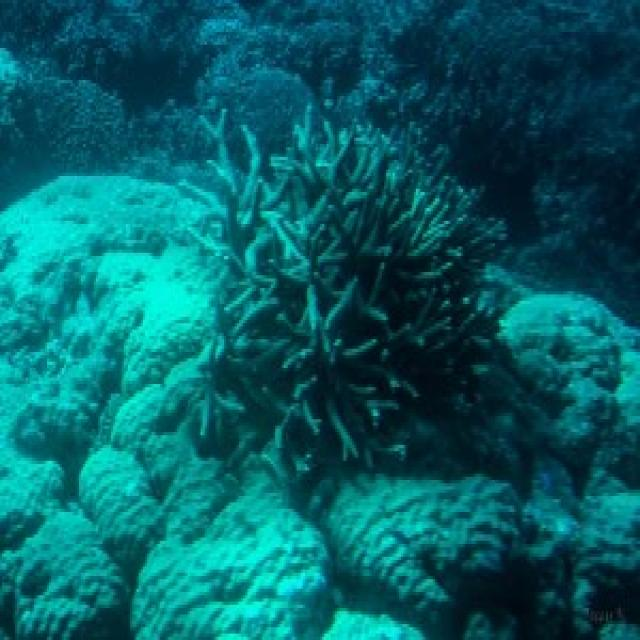Bleached: (1, 177, 216, 635), (80, 452, 334, 638), (327, 475, 528, 635), (502, 292, 639, 478), (509, 481, 639, 638)
Healthy: (199, 107, 513, 481)
